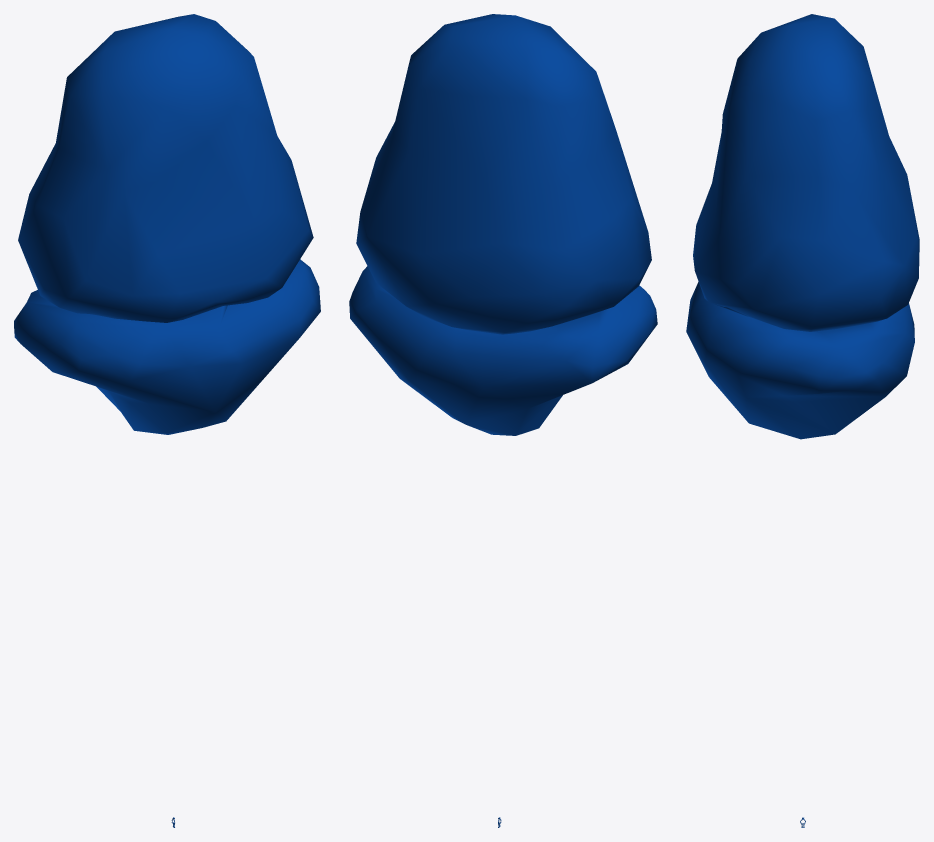
File: Bernard.fbx
3 renders of one model, left to right at view 1: azimuth 30°, elevation 25°; view 2: azimuth 150°, elevation 25°; view 3: azimuth 270°, elevation 25°, orthographic.
Parts seen in each view (by area): view 1: Icosphere.001; view 2: Icosphere.001; view 3: Icosphere.001.
Part boxes in pixels (left/top/right/bottom): Icosphere.001: left=14, top=14, right=320, bottom=434; Icosphere.001: left=349, top=14, right=657, bottom=435; Icosphere.001: left=686, top=14, right=919, bottom=439.
Size of the model in its own units: 4848 by 13871 by 3680.
